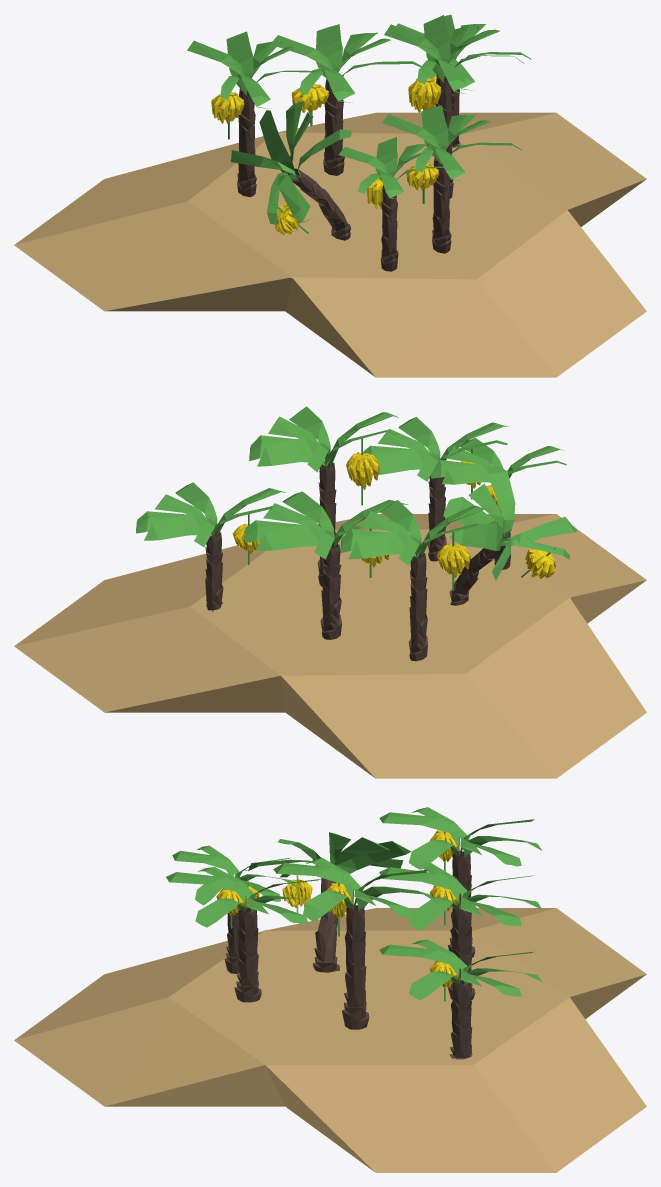
The model's file is insel4.fbx.
3 views of the same model, one above another, from view 1: azimuth 30°, elevation 25°; view 2: azimuth 150°, elevation 25°; view 3: azimuth 270°, elevation 25° (orthographic).
Parts seen in each view (by area): view 1: landschaft, Blätter_10, Blätter, Blätter_4, Blätter_8, Blätter_12, Blätter_14, Stamm_8, Stamm_12, Stamm_10, Stamm, Stamm_14 (+6 smaller); view 2: landschaft, Blätter_10, Blätter, Blätter_4, Blätter_8, Blätter_6, Blätter_12, Blätter_14, Stamm_8, Stamm, Stamm_6, Stamm_12 (+5 smaller); view 3: landschaft, Blätter_4, Blätter_8, Blätter, Blätter_6, Blätter_12, Blätter_10, Stamm_4, Stamm_12, Blätter_14, Stamm_6, Stamm_10 (+4 smaller).
Boxes of the visible parts, x1,y1,x2,y2 form: landschaft: [14, 112, 646, 377]; Blätter_10: [231, 101, 351, 224]; Blätter: [272, 24, 421, 102]; Blätter_4: [384, 15, 524, 93]; Blätter_8: [187, 31, 326, 108]; Blätter_12: [382, 105, 521, 181]; Blätter_14: [338, 137, 443, 199]; Stamm_8: [237, 86, 256, 197]; Stamm_12: [432, 156, 451, 253]; Stamm_10: [289, 168, 350, 240]; Stamm: [323, 78, 344, 175]; Stamm_14: [380, 184, 398, 271]; landschaft: [14, 514, 646, 778]; Blätter_10: [443, 466, 576, 580]; Blätter: [244, 491, 408, 559]; Blätter_4: [249, 406, 398, 472]; Blätter_8: [340, 500, 489, 565]; Blätter_6: [136, 482, 285, 547]; Blätter_12: [363, 417, 509, 481]; Blätter_14: [430, 438, 566, 486]; Stamm_8: [408, 552, 427, 661]; Stamm: [320, 542, 341, 639]; Stamm_6: [205, 531, 223, 611]; Stamm_12: [428, 476, 446, 561]; landschaft: [14, 908, 646, 1172]; Blätter_4: [273, 857, 436, 921]; Blätter_8: [379, 807, 542, 869]; Blätter: [379, 863, 542, 930]; Blätter_6: [379, 939, 542, 1000]; Blätter_12: [166, 867, 320, 927]; Blätter_10: [245, 832, 410, 877]; Stamm_4: [342, 904, 369, 1029]; Stamm_12: [234, 907, 261, 1002]; Blätter_14: [172, 845, 296, 905]; Stamm_6: [449, 979, 472, 1059]; Stamm_10: [313, 878, 339, 972].
Size of the model in its own units: 6073 by 2097 by 6136.
Materials: 4 (3 with a texture image).
